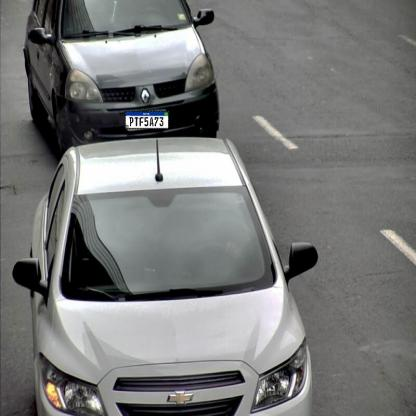PlacaM: (125, 111, 169, 129)
